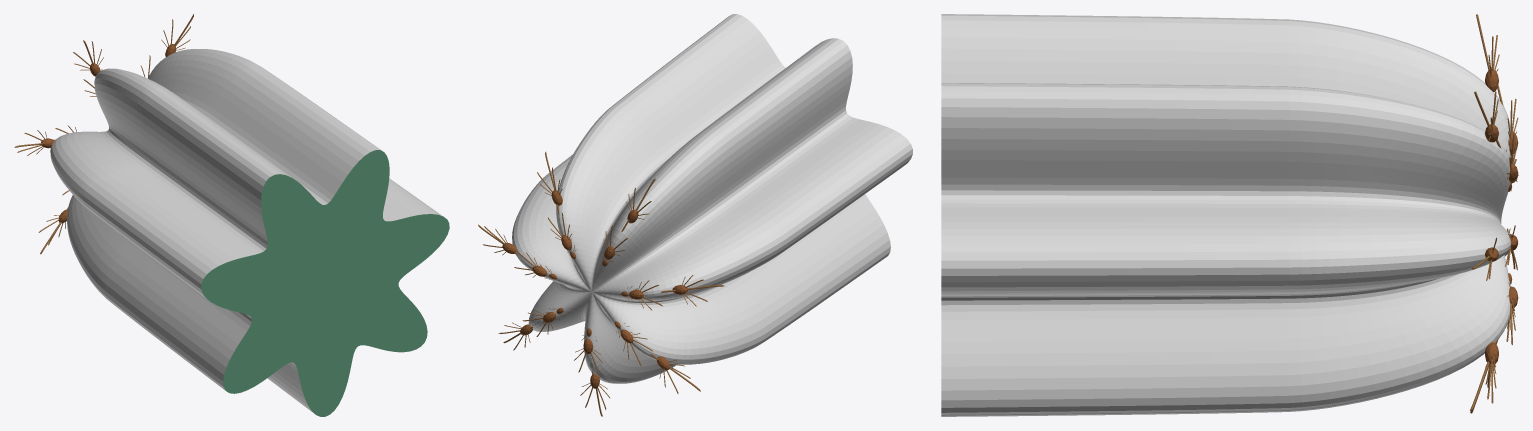
Rendered from frame-001.glb.
The picture shows the model from 3 angles, left to right: view 1: azimuth 30°, elevation 25°; view 2: azimuth 150°, elevation 25°; view 3: azimuth 270°, elevation 25°; orthographic projection. The views are drawn at different scales.
Visible parts, largest first — view 1: WACHUMA_Pachanoi_Frame_001; view 2: WACHUMA_Pachanoi_Frame_001; view 3: WACHUMA_Pachanoi_Frame_001.
Part boxes in pixels (<box>): WACHUMA_Pachanoi_Frame_001: <box>14,14,449,416</box>; WACHUMA_Pachanoi_Frame_001: <box>478,14,912,416</box>; WACHUMA_Pachanoi_Frame_001: <box>941,14,1518,416</box>.
Size of the model in its own units: 0.8375 by 0.8198 by 1.18.
